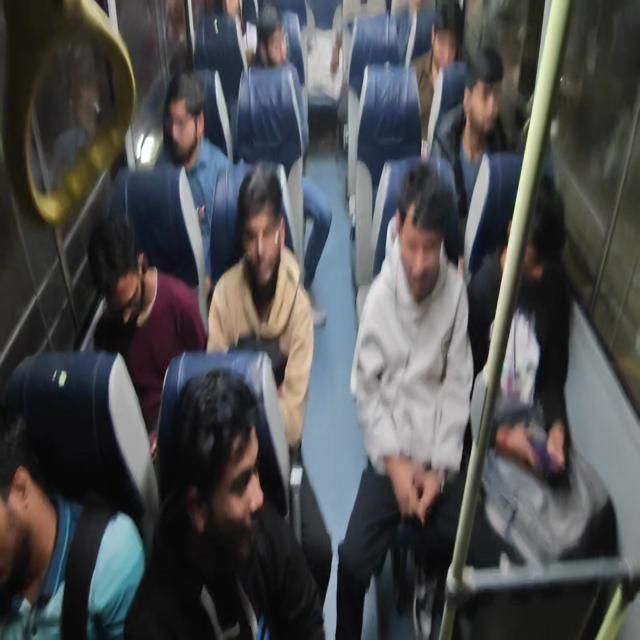person: (167, 358, 265, 559), (85, 203, 156, 335), (1, 387, 45, 594), (508, 162, 566, 314), (397, 168, 457, 309), (236, 165, 289, 294), (459, 39, 511, 144), (247, 0, 305, 88), (159, 70, 210, 167), (432, 5, 469, 83), (212, 0, 249, 36)
